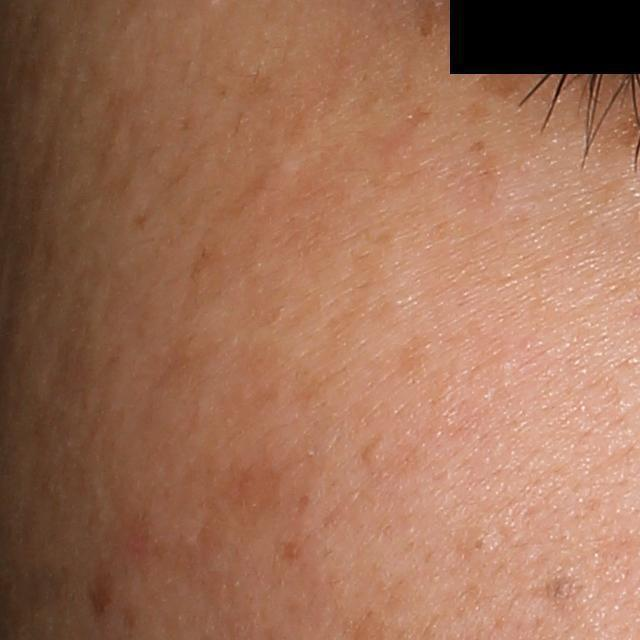comedo: (463, 524, 495, 557)
melasma: (409, 1, 559, 102), (196, 457, 279, 561), (132, 200, 157, 231), (465, 138, 488, 157)
